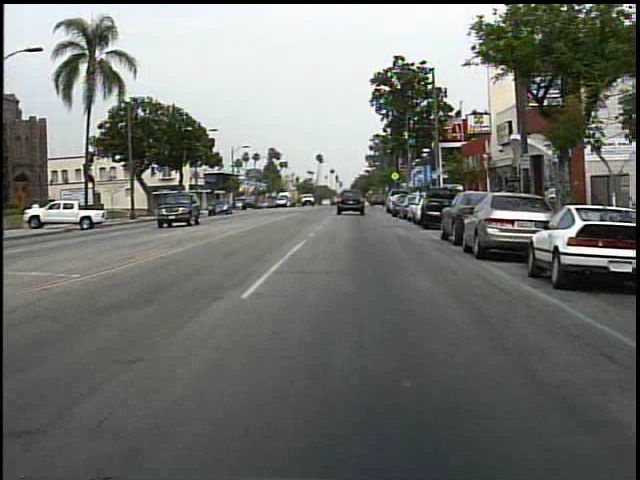person: (334, 188, 356, 217)
